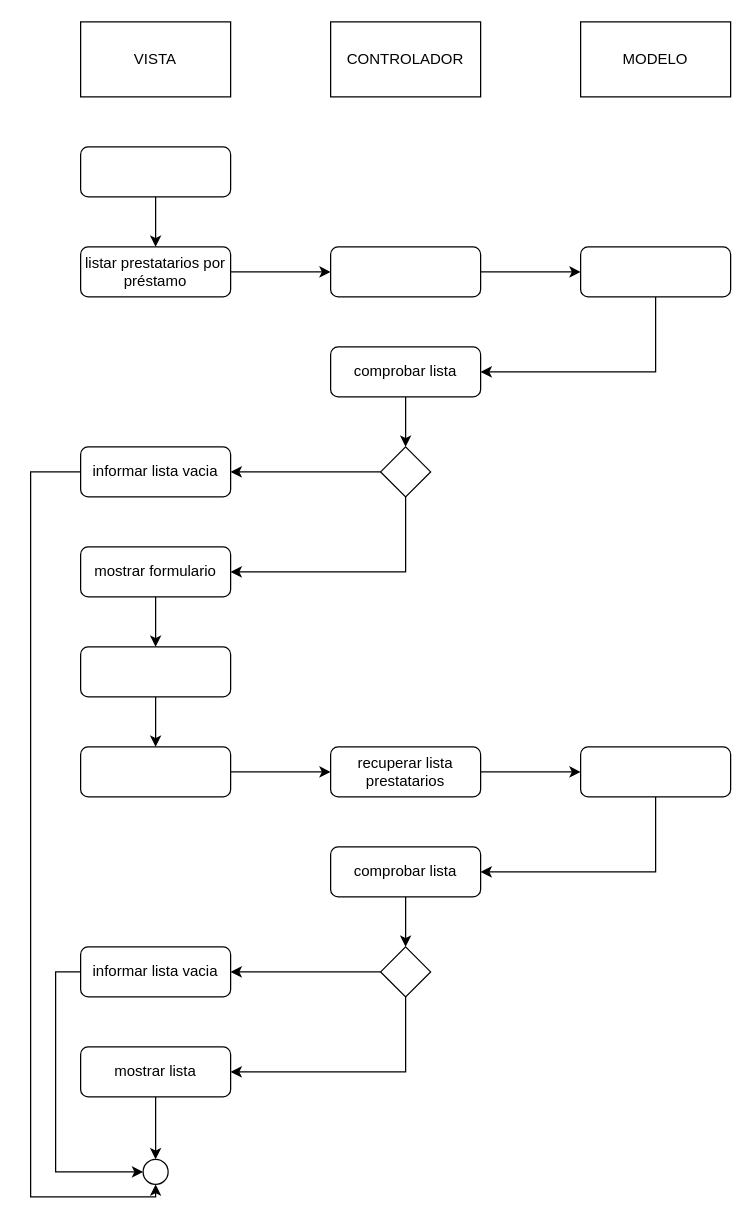
This 753x1229 diagram has some shape labels left out. The centre of each missing label's shape, as x and y in pixels:
"confirmar formulario" goes at (155,771).
"recuperar lista prestamos" goes at (405,271).
"recuperar prestamos" goes at (655,271).
"recuperar prestatarios que coincidan" goes at (655,771).
"seleccionar prestamo" goes at (155,671).
"vista prestatarios" goes at (155,171).
